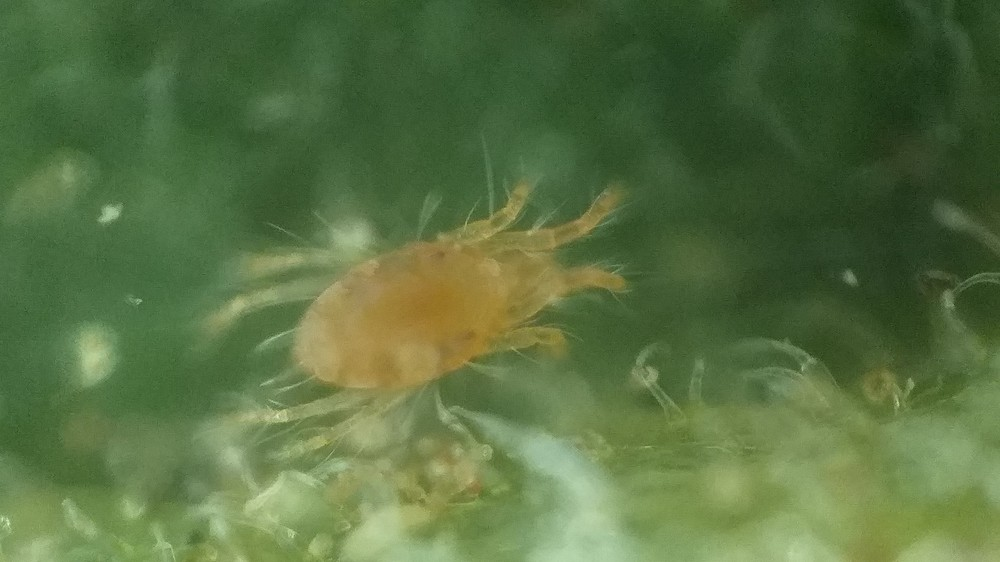Aracnido Rojo: (207, 159, 673, 458)
